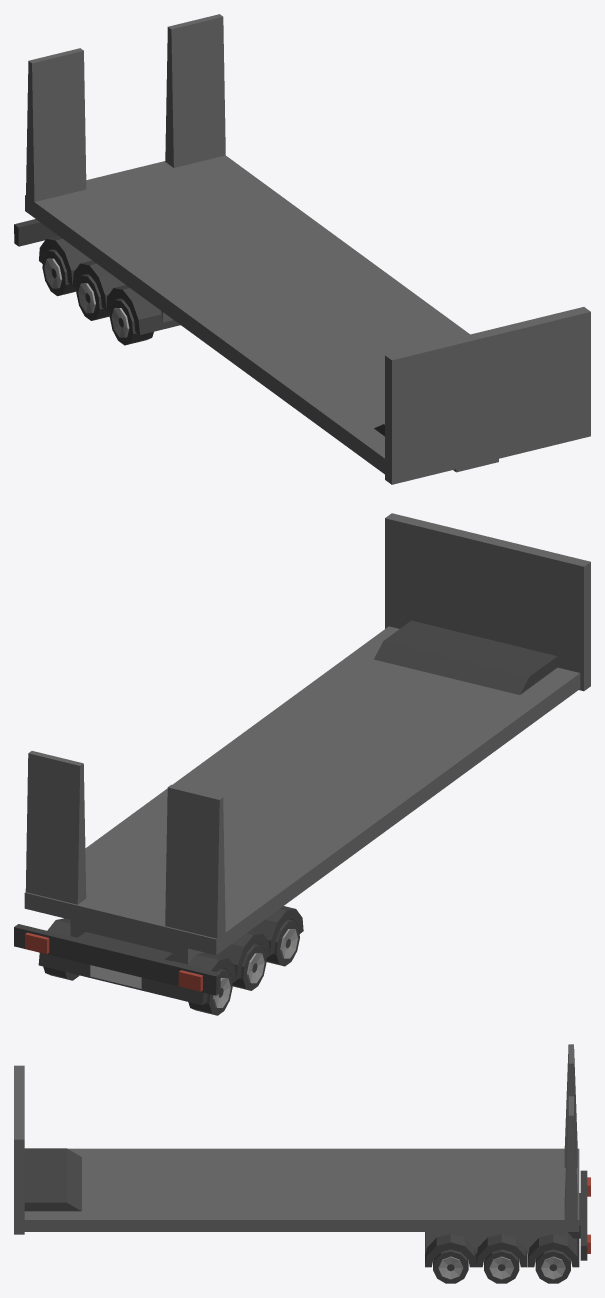
The model's file is transport_truck_015.fbx.
3 renders of one model, top to bottom at view 1: azimuth 30°, elevation 25°; view 2: azimuth 150°, elevation 25°; view 3: azimuth 270°, elevation 25°, orthographic. The views are drawn at different scales.
Parts seen in each view (by area): view 1: transport_truck_015; view 2: transport_truck_015; view 3: transport_truck_015.
Boxes of the visible parts, <box> form: transport_truck_015: <box>14,14,590,484</box>; transport_truck_015: <box>14,513,590,1015</box>; transport_truck_015: <box>14,1044,590,1283</box>.
Bounding box in the file's own units: 186 × 199 × 603.
